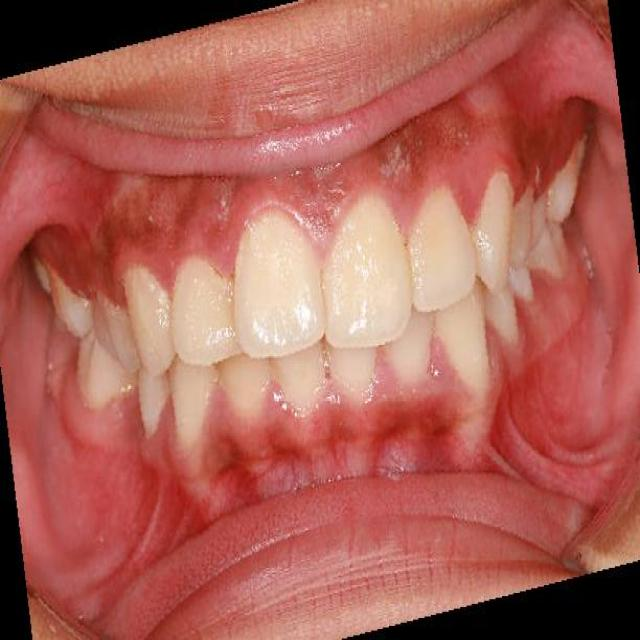swelling: (442, 174, 492, 234), (302, 208, 344, 277)
